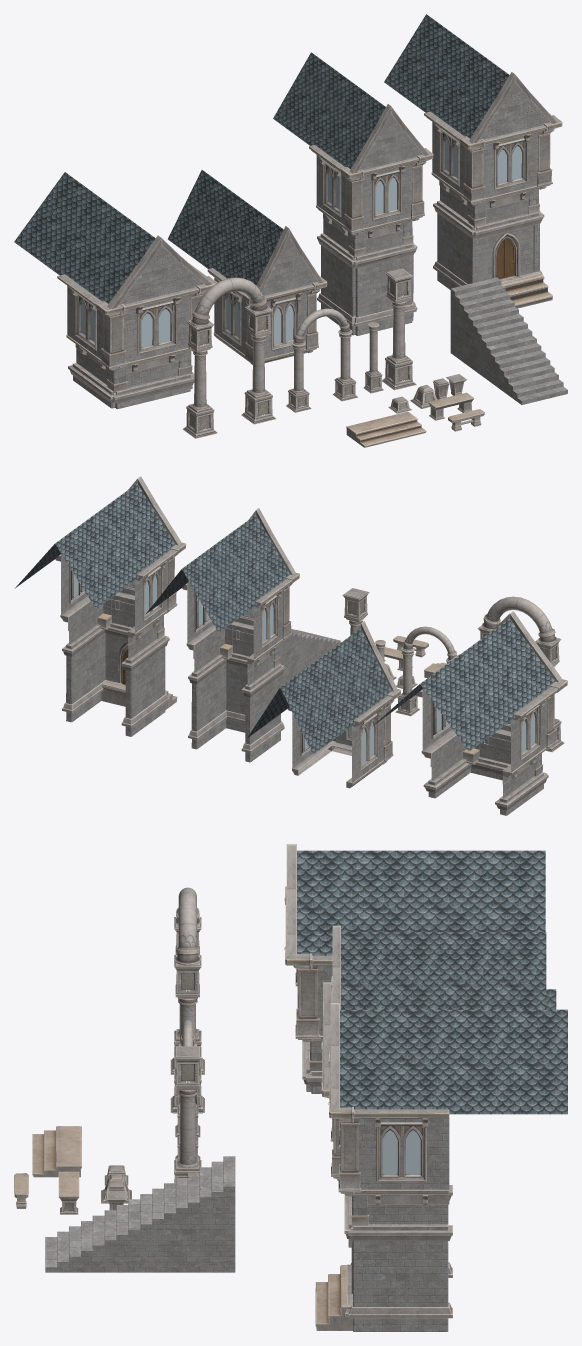
Rendered from Misc_City_Supply_A.fbx.
3 views of the same model, one above another, from view 1: azimuth 30°, elevation 25°; view 2: azimuth 150°, elevation 25°; view 3: azimuth 270°, elevation 25° (orthographic). The views are drawn at different scales.
Parts seen in each view (by area): view 1: City_Home_Extension_1A4, City_Home_Extension_1A1.002, City_Home_Extension_1A3, City_Home_Extension_1A3.001, City_Home_Extension_1A1, City_Home_Extension_1A2.001, City_Home_Extension_1A4.001, City_Home_Extension_1A2, City_Home_Staircase_1A1, City_Home_Extension_1A1.001, City_Pillar_Arch_1A2, City_Home_Extension_1A3.002 (+12 smaller); view 2: City_Home_Extension_1A4, City_Home_Extension_1A3, City_Home_Extension_1A1.002, City_Home_Extension_1A4.001, City_Home_Extension_1A1, City_Home_Extension_1A3.001, City_Home_Extension_1A2, City_Home_Extension_1A2.001, City_Home_Extension_1A1.001, City_Home_Extension_1A3.002, City_Home_Extension_1A2.002, City_Home_Extension_1A4.002 (+7 smaller); view 3: City_Home_Extension_1A4, City_Home_Extension_1A4.001, City_Home_Extension_1A1.002, City_Home_Extension_1A4.002, City_Home_Staircase_1A1, City_Home_Extension_1A3.001, City_Home_Extension_1A1.001, City_Home_Extension_1A3, City_Home_Staircase_1A1.002, City_Home_Extension_1A1, City_Pillar_Arch_1A2, City_Pillar_1A2 (+7 smaller).
Part boxes in pixels (<box>): City_Home_Extension_1A4: <box>384,14,561,306</box>; City_Home_Extension_1A1.002: <box>14,172,213,408</box>; City_Home_Extension_1A3: <box>273,52,433,335</box>; City_Home_Extension_1A3.001: <box>274,53,429,335</box>; City_Home_Extension_1A1: <box>57,235,217,408</box>; City_Home_Extension_1A2.001: <box>168,170,326,364</box>; City_Home_Extension_1A4.001: <box>385,14,561,304</box>; City_Home_Extension_1A2: <box>168,171,326,364</box>; City_Home_Staircase_1A1: <box>450,278,567,404</box>; City_Home_Extension_1A1.001: <box>67,233,214,409</box>; City_Pillar_Arch_1A2: <box>183,277,275,438</box>; City_Home_Extension_1A3.002: <box>309,85,433,335</box>; City_Home_Extension_1A4: <box>14,476,186,736</box>; City_Home_Extension_1A3: <box>145,508,299,762</box>; City_Home_Extension_1A1.002: <box>416,618,567,813</box>; City_Home_Extension_1A4.001: <box>45,484,185,735</box>; City_Home_Extension_1A1: <box>372,611,567,815</box>; City_Home_Extension_1A3.001: <box>183,515,297,761</box>; City_Home_Extension_1A2: <box>247,621,400,788</box>; City_Home_Extension_1A2.001: <box>280,628,400,787</box>; City_Home_Extension_1A1.001: <box>416,624,562,815</box>; City_Home_Extension_1A3.002: <box>182,517,299,761</box>; City_Home_Extension_1A2.002: <box>281,635,400,787</box>; City_Home_Extension_1A4.002: <box>46,493,185,735</box>; City_Home_Extension_1A4: <box>315,1003,567,1331</box>; City_Home_Extension_1A4.001: <box>316,1009,567,1331</box>; City_Home_Extension_1A1.002: <box>284,850,545,1093</box>; City_Home_Extension_1A4.002: <box>315,1009,567,1331</box>; City_Home_Staircase_1A1: <box>45,1156,235,1272</box>; City_Home_Extension_1A3.001: <box>331,932,546,1247</box>; City_Home_Extension_1A1.001: <box>284,850,545,1093</box>; City_Home_Extension_1A3: <box>331,925,546,1247</box>; City_Home_Staircase_1A1.002: <box>45,1156,235,1272</box>; City_Home_Extension_1A1: <box>284,844,545,1093</box>; City_Pillar_Arch_1A2: <box>170,887,204,1113</box>; City_Pillar_1A2: <box>174,1046,201,1183</box>.
Size of the model in its own units: 3077 by 1435 by 2332.
